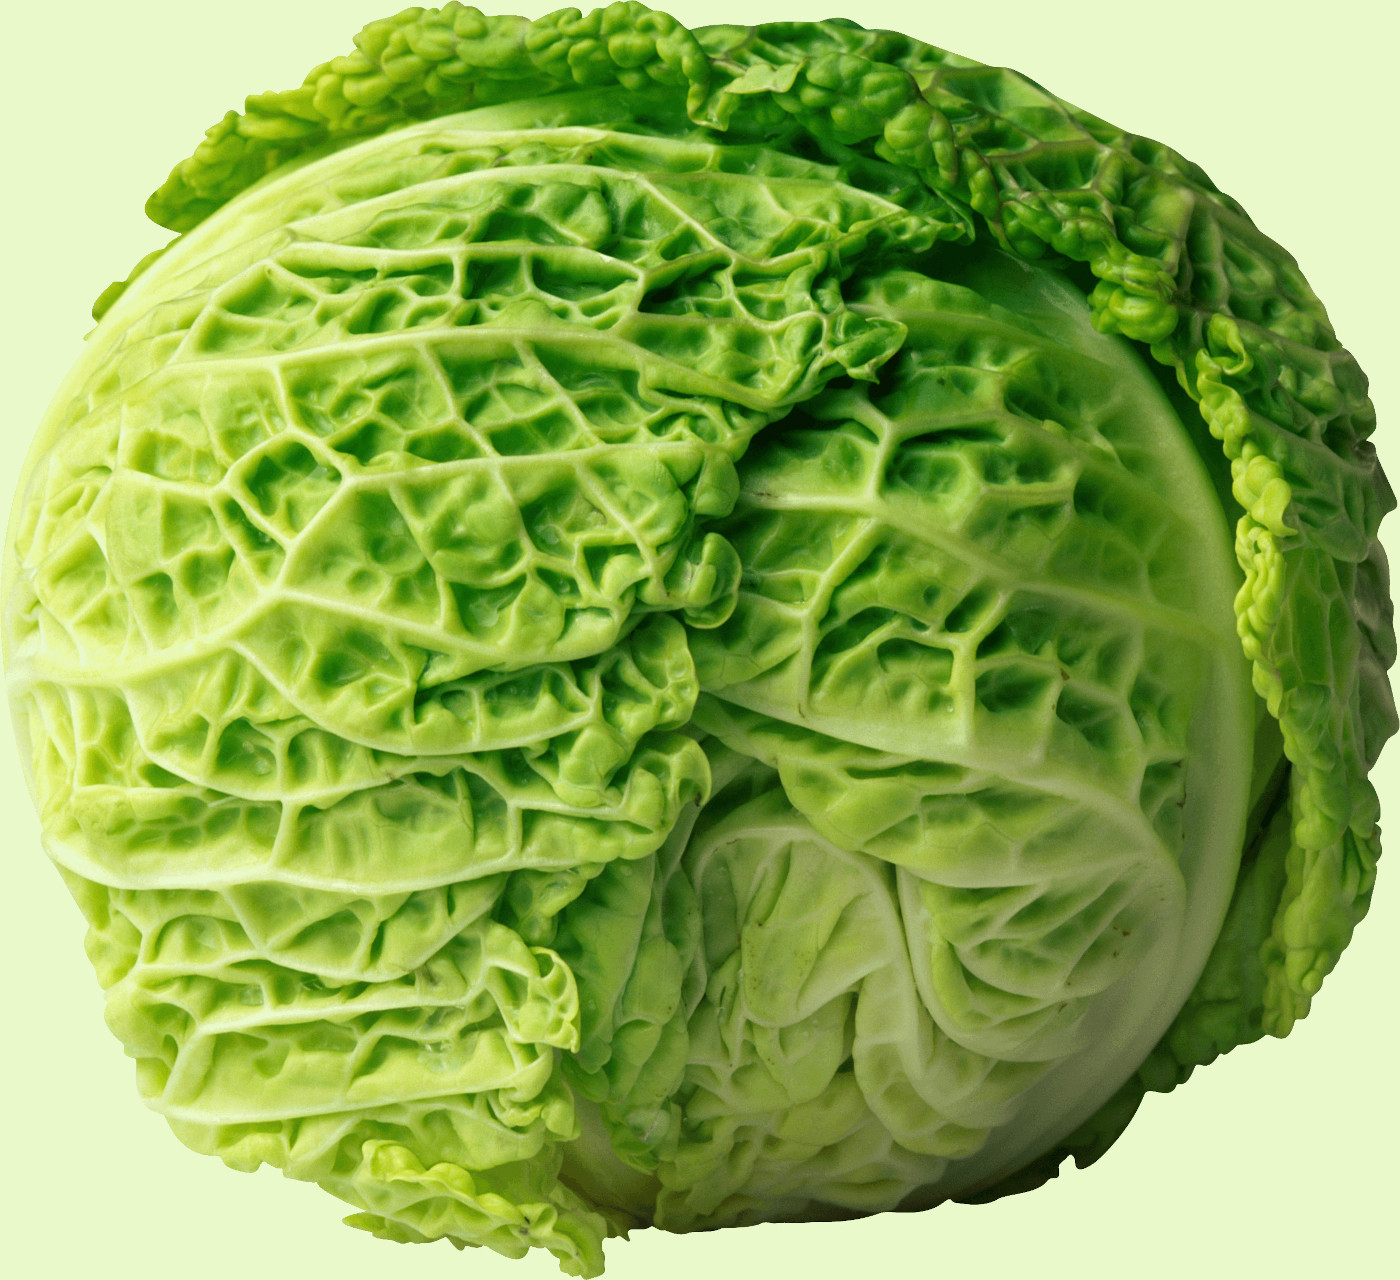cabbage: (10, 6, 1391, 1271)
